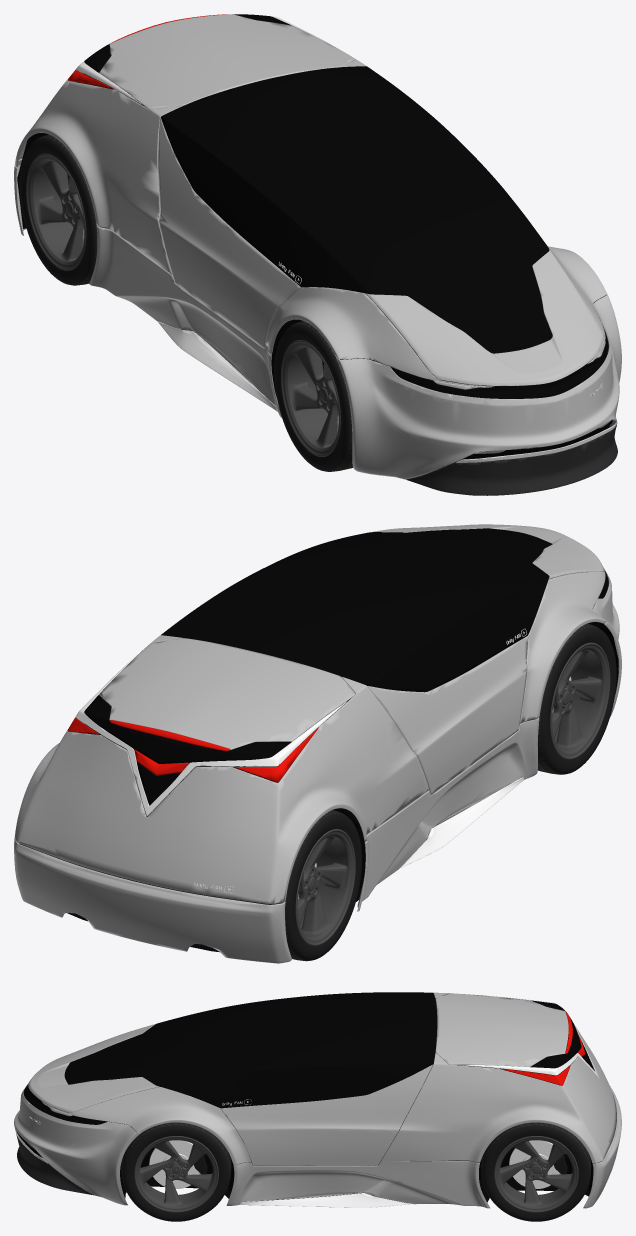
3 views of the same model, one above another, from view 1: azimuth 30°, elevation 25°; view 2: azimuth 150°, elevation 25°; view 3: azimuth 270°, elevation 25° (orthographic). The views are drawn at different scales.
Visible parts, largest first — view 1: Cube.032_plasticShiny_0, Cube.038_body_color_supra.001_0, Cube.041_body_color_supra.001_0, Cube.042_body_color_supra.001_0, Cube.040_body_color_supra.001_0, Cube.035_body_color_supra.001_0, Cube.033_body_color_supra.001_0, Cube.044_body_color_supra.001_0, Cube.034_plasticMatte_0, Plane.008_rims.001_0, Plane.009_rims.001_0, Cube.031_headlightCovers_0 (+6 smaller); view 2: Cube.032_plasticShiny_0, Cube.042_body_color_supra.001_0, Cube.041_body_color_supra.001_0, Cube.043_body_color_supra.001_0, Cube.040_body_color_supra.001_0, Cube.044_body_color_supra.001_0, Cube.033_body_color_supra.001_0, Plane.008_rims.001_0, Plane.009_rims.001_0, Cube.020_chrome_0, Mesh5.003_rubber___tires.001_0, Mesh5.002_rubber___tires.001_0 (+6 smaller); view 3: Cube.032_plasticShiny_0, Cube.042_body_color_supra.001_0, Cube.040_body_color_supra.001_0, Cube.044_body_color_supra.001_0, Cube.041_body_color_supra.001_0, Cube.038_body_color_supra.001_0, Cube.033_body_color_supra.001_0, Cube.035_body_color_supra.001_0, Plane.007_rims.001_0, Plane.001_rims.001_0, Mesh5.001_rubber___tires.001_0, Mesh5.004_rubber___tires.001_0 (+12 smaller).
Boxes of the visible parts, left/top/right/bottom form: Cube.032_plasticShiny_0: left=84, top=14, right=552, bottom=351; Cube.038_body_color_supra.001_0: left=336, top=294, right=621, bottom=479; Cube.041_body_color_supra.001_0: left=99, top=14, right=355, bottom=109; Cube.042_body_color_supra.001_0: left=14, top=53, right=366, bottom=275; Cube.040_body_color_supra.001_0: left=158, top=117, right=300, bottom=348; Cube.035_body_color_supra.001_0: left=366, top=249, right=604, bottom=385; Cube.033_body_color_supra.001_0: left=265, top=246, right=606, bottom=387; Cube.044_body_color_supra.001_0: left=89, top=225, right=281, bottom=417; Cube.034_plasticMatte_0: left=406, top=424, right=617, bottom=495; Plane.008_rims.001_0: left=26, top=153, right=86, bottom=270; Plane.009_rims.001_0: left=281, top=340, right=340, bottom=456; Cube.031_headlightCovers_0: left=392, top=326, right=616, bottom=458; Cube.032_plasticShiny_0: left=84, top=528, right=552, bottom=763; Cube.042_body_color_supra.001_0: left=14, top=635, right=429, bottom=904; Cube.041_body_color_supra.001_0: left=99, top=638, right=355, bottom=749; Cube.043_body_color_supra.001_0: left=14, top=838, right=291, bottom=963; Cube.040_body_color_supra.001_0: left=367, top=636, right=528, bottom=794; Cube.044_body_color_supra.001_0: left=357, top=717, right=539, bottom=911; Cube.033_body_color_supra.001_0: left=520, top=565, right=606, bottom=723; Plane.008_rims.001_0: left=295, top=829, right=355, bottom=946; Plane.009_rims.001_0: left=550, top=642, right=610, bottom=759; Cube.020_chrome_0: left=75, top=652, right=524, bottom=868; Mesh5.003_rubber___tires.001_0: left=540, top=627, right=616, bottom=774; Mesh5.002_rubber___tires.001_0: left=286, top=813, right=361, bottom=960; Cube.032_plasticShiny_0: left=65, top=992, right=581, bottom=1107; Cube.042_body_color_supra.001_0: left=381, top=992, right=616, bottom=1163; Cube.040_body_color_supra.001_0: left=221, top=1064, right=432, bottom=1165; Cube.044_body_color_supra.001_0: left=226, top=1161, right=490, bottom=1208; Cube.041_body_color_supra.001_0: left=435, top=993, right=568, bottom=1066; Cube.038_body_color_supra.001_0: left=14, top=1085, right=141, bottom=1205; Cube.033_body_color_supra.001_0: left=41, top=1087, right=251, bottom=1164; Cube.035_body_color_supra.001_0: left=28, top=1024, right=159, bottom=1112; Plane.007_rims.001_0: left=494, top=1136, right=578, bottom=1212; Plane.001_rims.001_0: left=134, top=1136, right=218, bottom=1212; Mesh5.001_rubber___tires.001_0: left=483, top=1125, right=589, bottom=1221; Mesh5.004_rubber___tires.001_0: left=123, top=1125, right=229, bottom=1221.
Bounding box in the file's own units: 1.63 × 1.27 × 4.48.
Materials: 13 (1 with a texture image).
